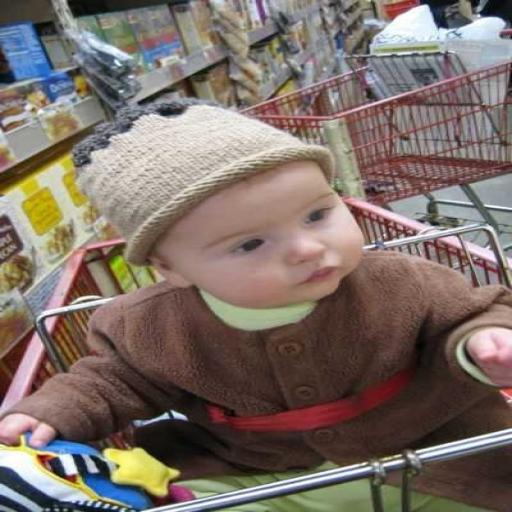shopping_cart: (0, 196, 512, 512), (221, 28, 512, 206)
